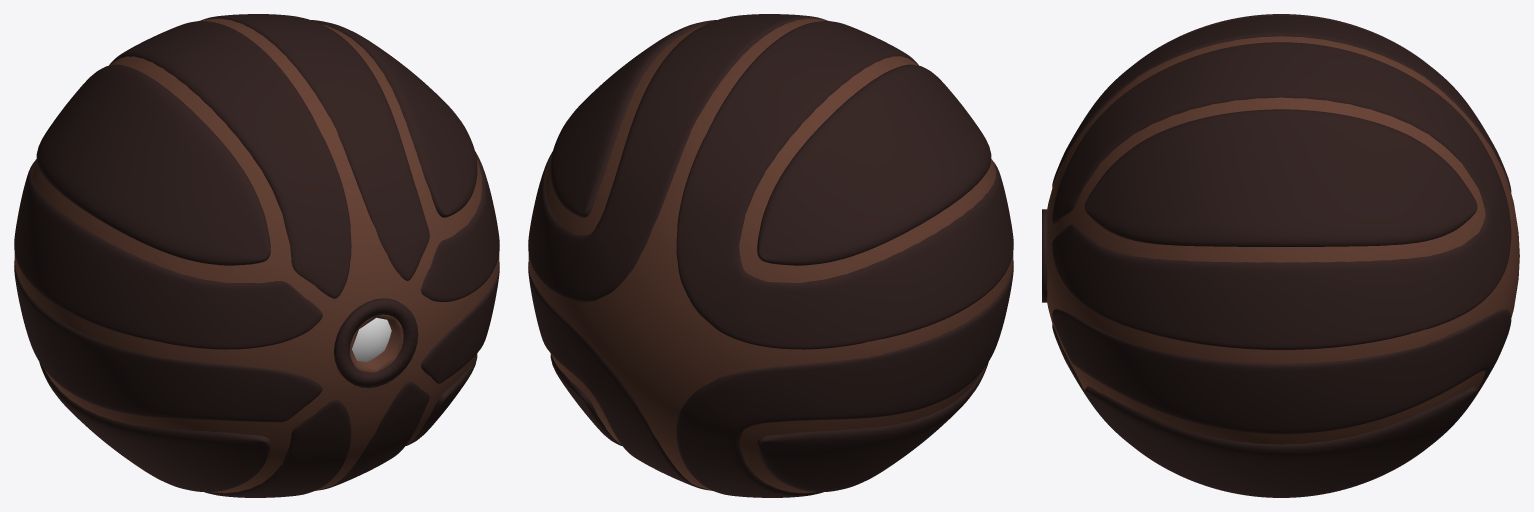
3 views of the same model, side by side, from view 1: azimuth 30°, elevation 25°; view 2: azimuth 150°, elevation 25°; view 3: azimuth 270°, elevation 25° (orthographic).
Visible parts, largest first — view 1: SHELL, SHPERE, 柱体, 球体; view 2: SHELL, SHPERE; view 3: SHELL, SHPERE, 柱体.
Part boxes in pixels (x1,y1,x2,y2): SHELL: (14,14,499,497); SHPERE: (14,18,499,493); 柱体: (334,298,418,387); 球体: (352,317,391,362); SHELL: (528,14,1013,497); SHPERE: (528,18,1013,493); SHELL: (1052,14,1511,497); SHPERE: (1047,36,1519,444); 柱体: (1042,209,1047,302).
Bounding box in the file's own units: 347 × 347 × 345.
